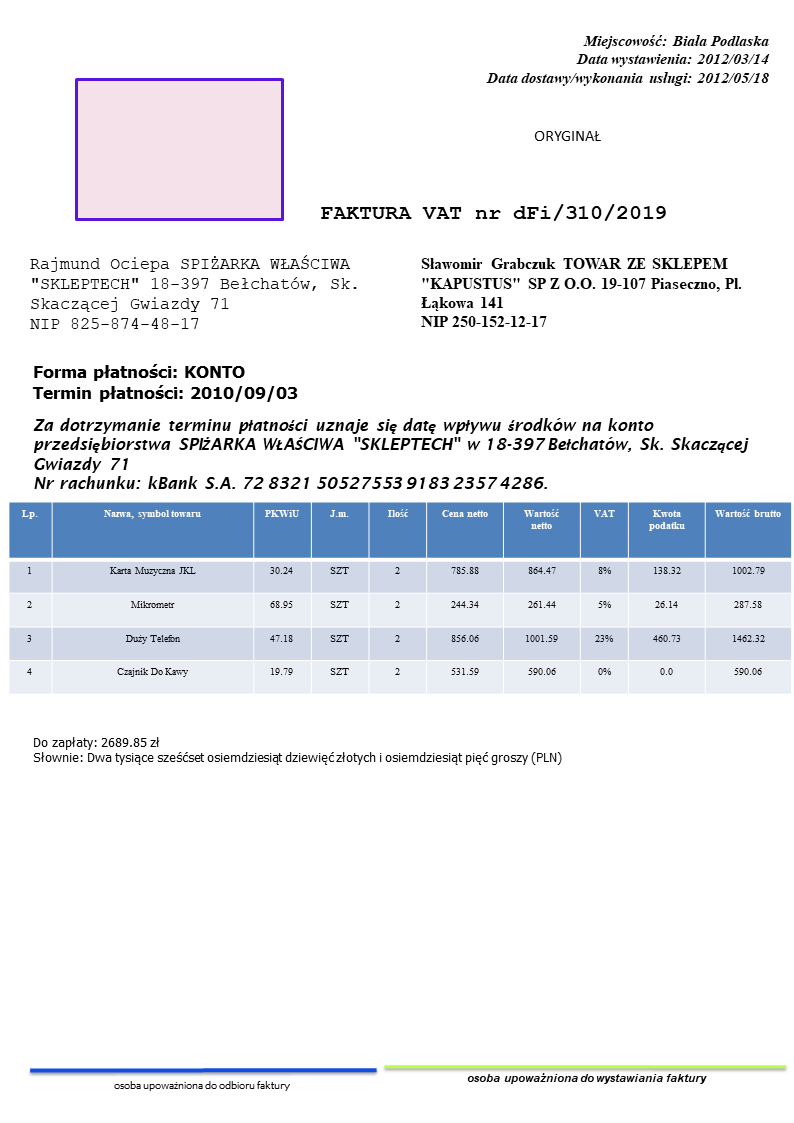Table: (8, 501, 794, 692)
TextBox: (30, 415, 752, 493), (27, 253, 359, 333), (417, 253, 745, 332), (30, 733, 565, 768), (481, 29, 773, 89), (31, 360, 300, 404), (317, 202, 668, 223), (465, 1071, 707, 1086), (111, 1077, 290, 1093), (529, 127, 602, 148)
